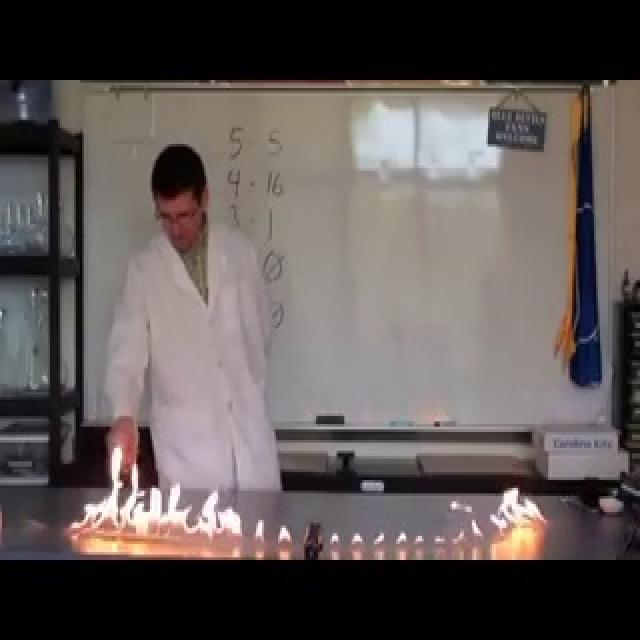fire: (61, 436, 246, 544), (486, 475, 553, 540)
